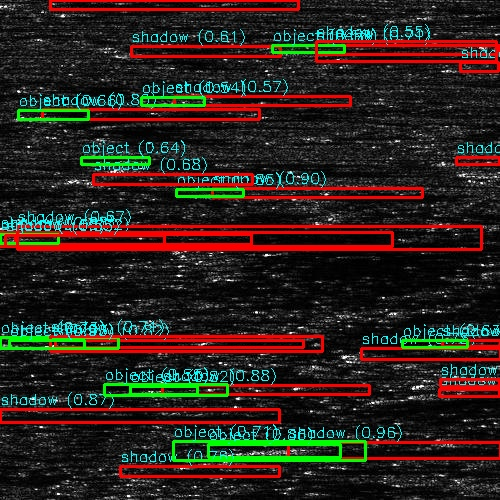rock: (183, 446, 350, 459), (89, 158, 172, 175), (14, 338, 129, 349), (409, 387, 482, 400), (0, 231, 63, 246), (0, 0, 101, 9), (110, 45, 173, 58), (132, 385, 205, 396), (0, 111, 86, 118), (454, 355, 500, 368), (186, 188, 259, 195), (57, 177, 140, 182), (121, 316, 184, 321), (435, 12, 476, 17), (424, 130, 477, 133), (268, 498, 341, 500), (304, 43, 315, 56), (78, 122, 119, 125)
shadow: (17, 231, 486, 246), (131, 158, 335, 175), (267, 446, 500, 459), (72, 338, 319, 349), (0, 412, 234, 423), (310, 43, 500, 56), (23, 0, 279, 9), (169, 385, 346, 396), (34, 111, 277, 118), (0, 183, 123, 196), (223, 188, 426, 195), (142, 45, 247, 58), (99, 177, 245, 182), (446, 387, 500, 400), (153, 316, 253, 321), (99, 122, 248, 125), (305, 498, 423, 500), (456, 12, 500, 17), (451, 130, 500, 133), (0, 383, 28, 388)
